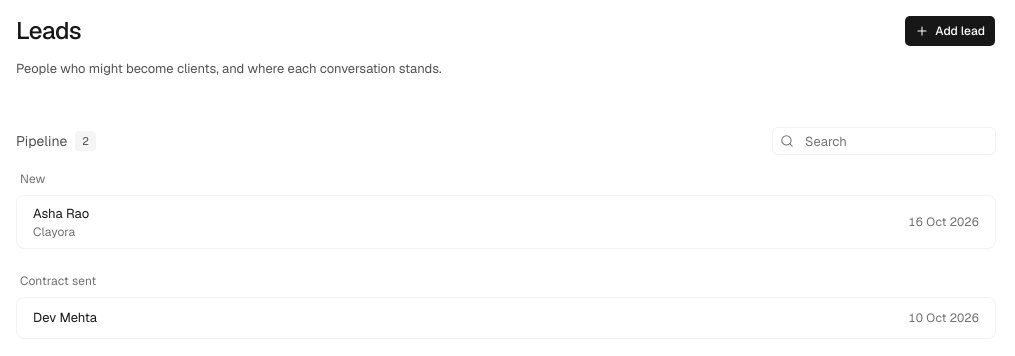
Scenario: LeadsPage › searches by name and company
In the search field named "Search leads": coordinates (884, 141) x1=772 y1=127 x2=996 y2=155, type "clay"
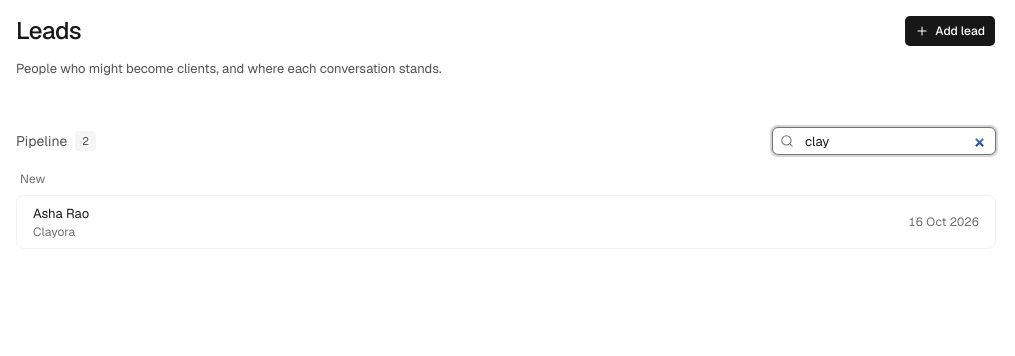
Expected: the link "Asha Rao" is shown, x1=33 y1=205 x2=89 y2=222
Expected: the link "Dev Mehta" is gone
